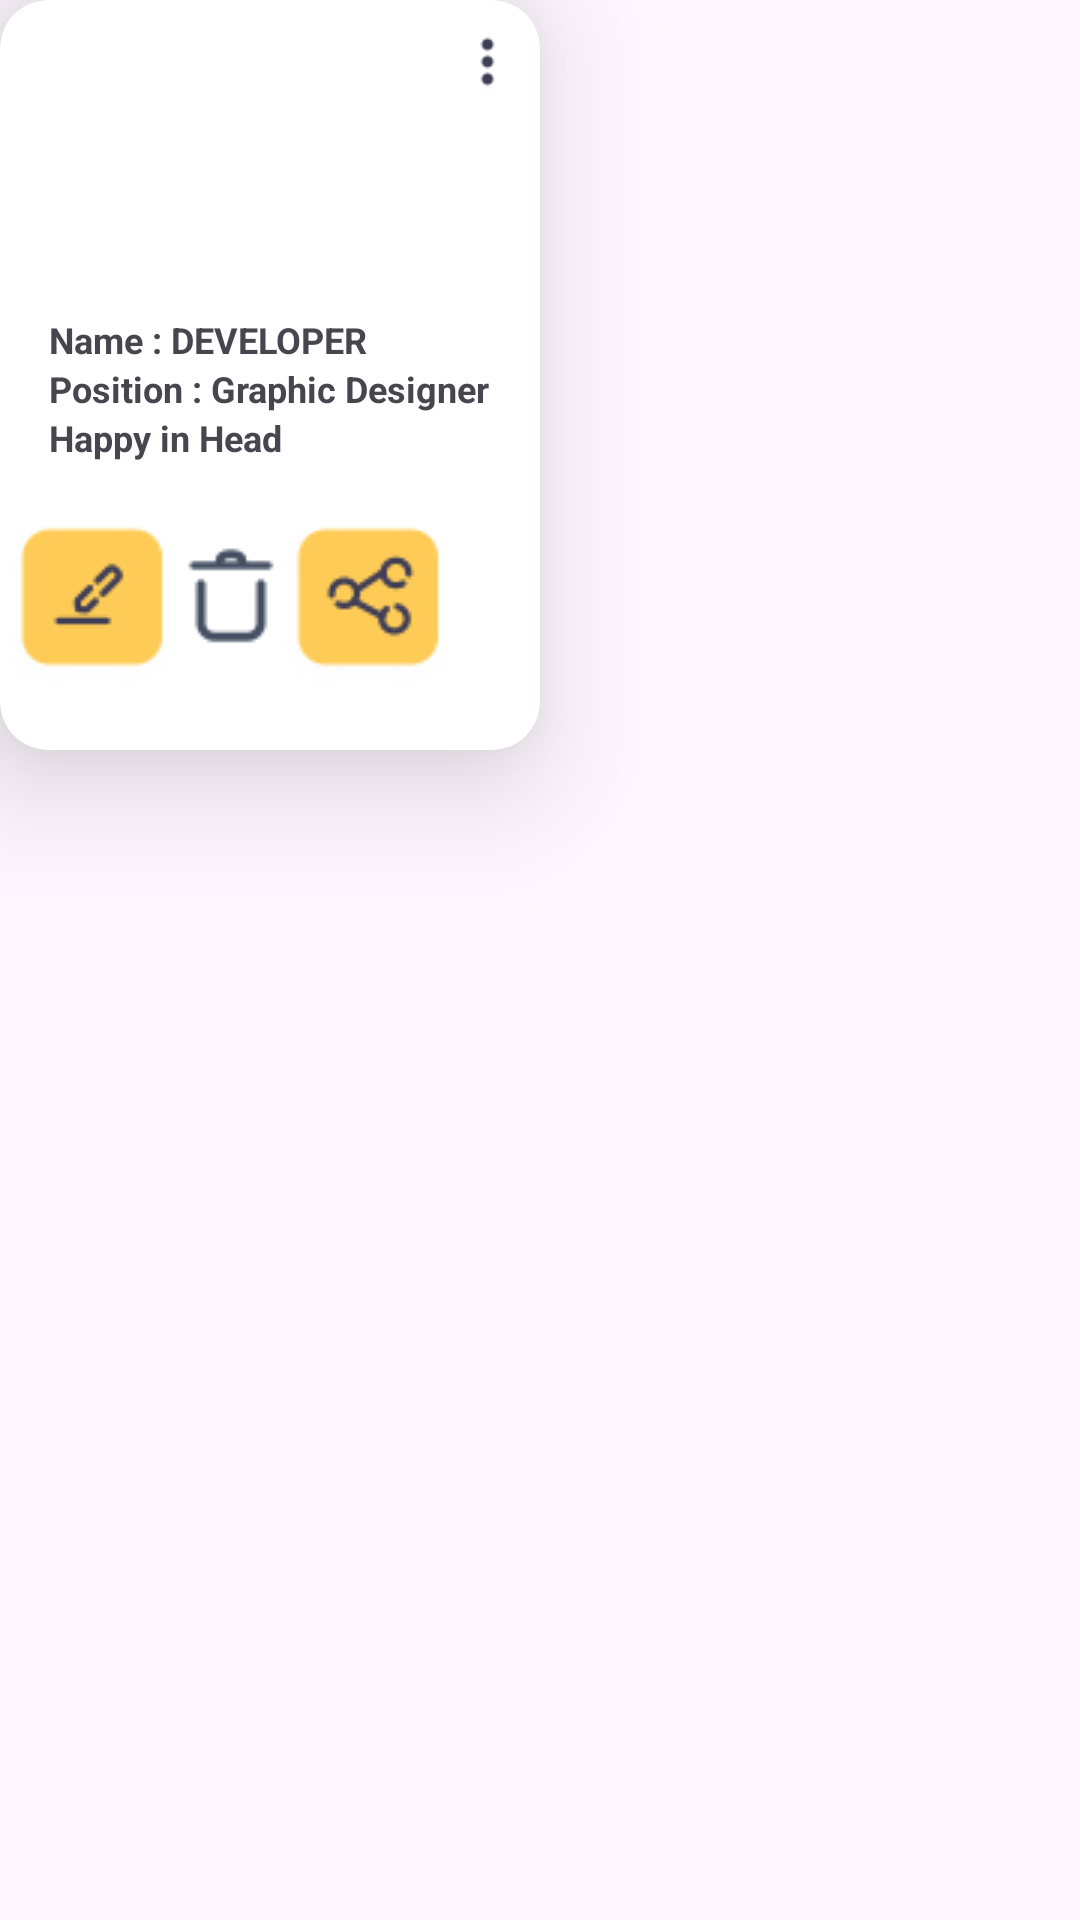

Where icons sit on this 1080 × 1920 app screen, as (x1, y1, x2, y2):
3dots: (480, 37, 495, 86)
delete: (188, 548, 274, 643)
edit: (20, 527, 163, 667)
share: (296, 527, 439, 667)
